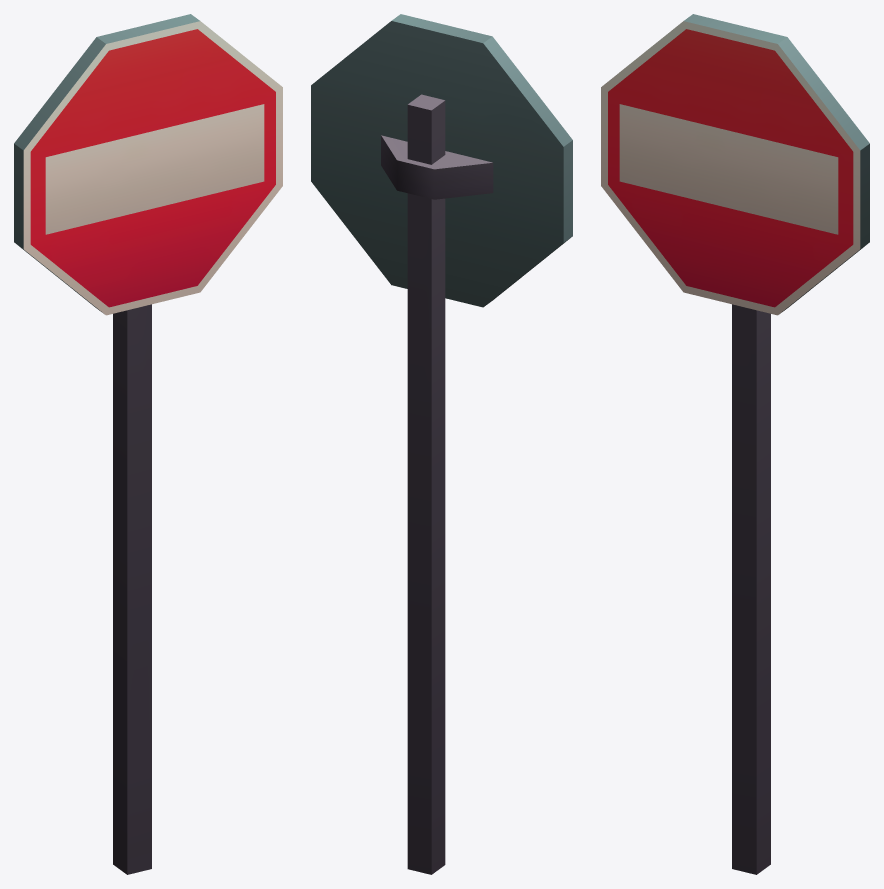
The model's file is Streetsign_2D.fbx.
3 views of the same model, side by side, from view 1: azimuth 30°, elevation 25°; view 2: azimuth 150°, elevation 25°; view 3: azimuth 330°, elevation 25° (orthographic). The views are drawn at different scales.
Parts seen in each view (by area): view 1: Streetsign_2D; view 2: Streetsign_2D; view 3: Streetsign_2D.
Boxes of the visible parts, left/top/right/bottom form: Streetsign_2D: left=14, top=14, right=282, bottom=874; Streetsign_2D: left=311, top=14, right=572, bottom=874; Streetsign_2D: left=601, top=14, right=869, bottom=874.
Size of the model in its own units: 28.45 by 89.02 by 6.35.
